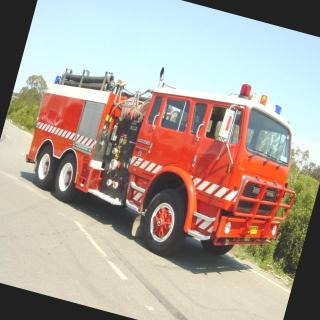Fire_truck: (9, 32, 320, 286)
